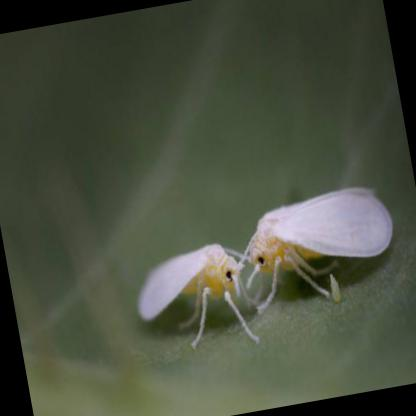whitefly: (249, 186, 393, 272), (139, 245, 243, 317)
